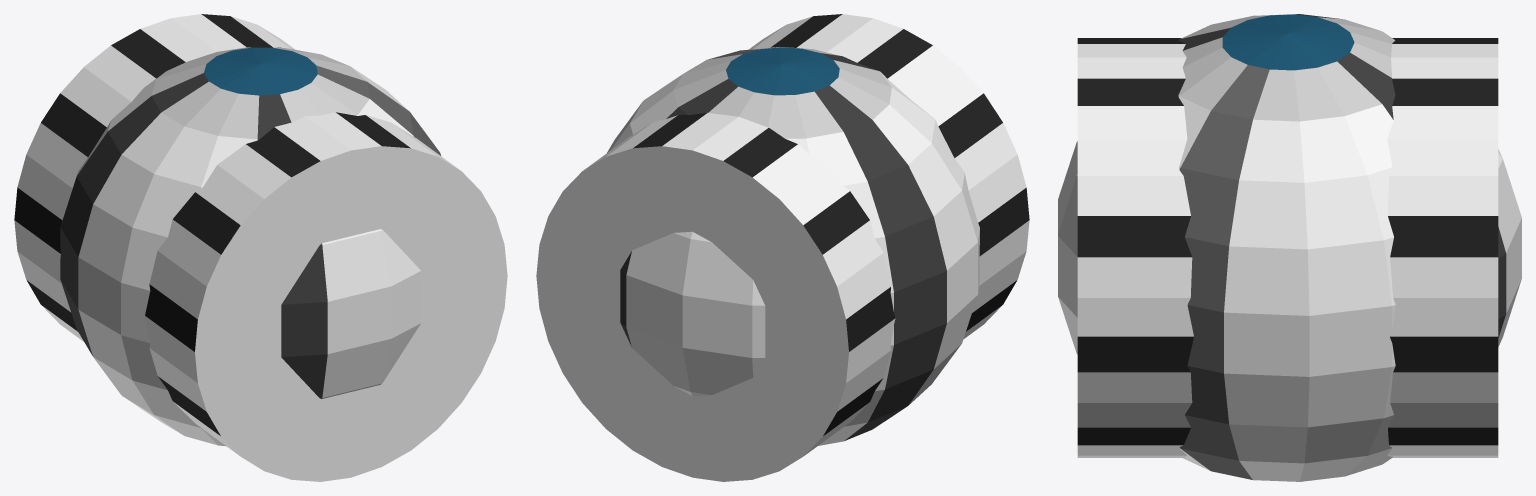
The model's file is simple-cylindar.glb.
3 renders of one model, left to right at view 1: azimuth 30°, elevation 25°; view 2: azimuth 150°, elevation 25°; view 3: azimuth 270°, elevation 25°, orthographic. The views are drawn at different scales.
Visible parts, largest first — view 1: sphere, s; view 2: sphere, s; view 3: s, sphere.
Boxes of the visible parts, x1,y1,x2,y2 form: sphere: (14,14,507,481); s: (60,47,440,446); sphere: (536,14,1029,481); s: (607,46,979,445); s: (1058,14,1521,481); sphere: (1077,38,1498,457).
Bounding box in the file's own units: 3.94 × 4 × 3.93.
Materials: 1 (1 with a texture image).
